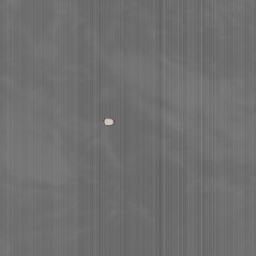Target: (102, 116, 115, 126)
